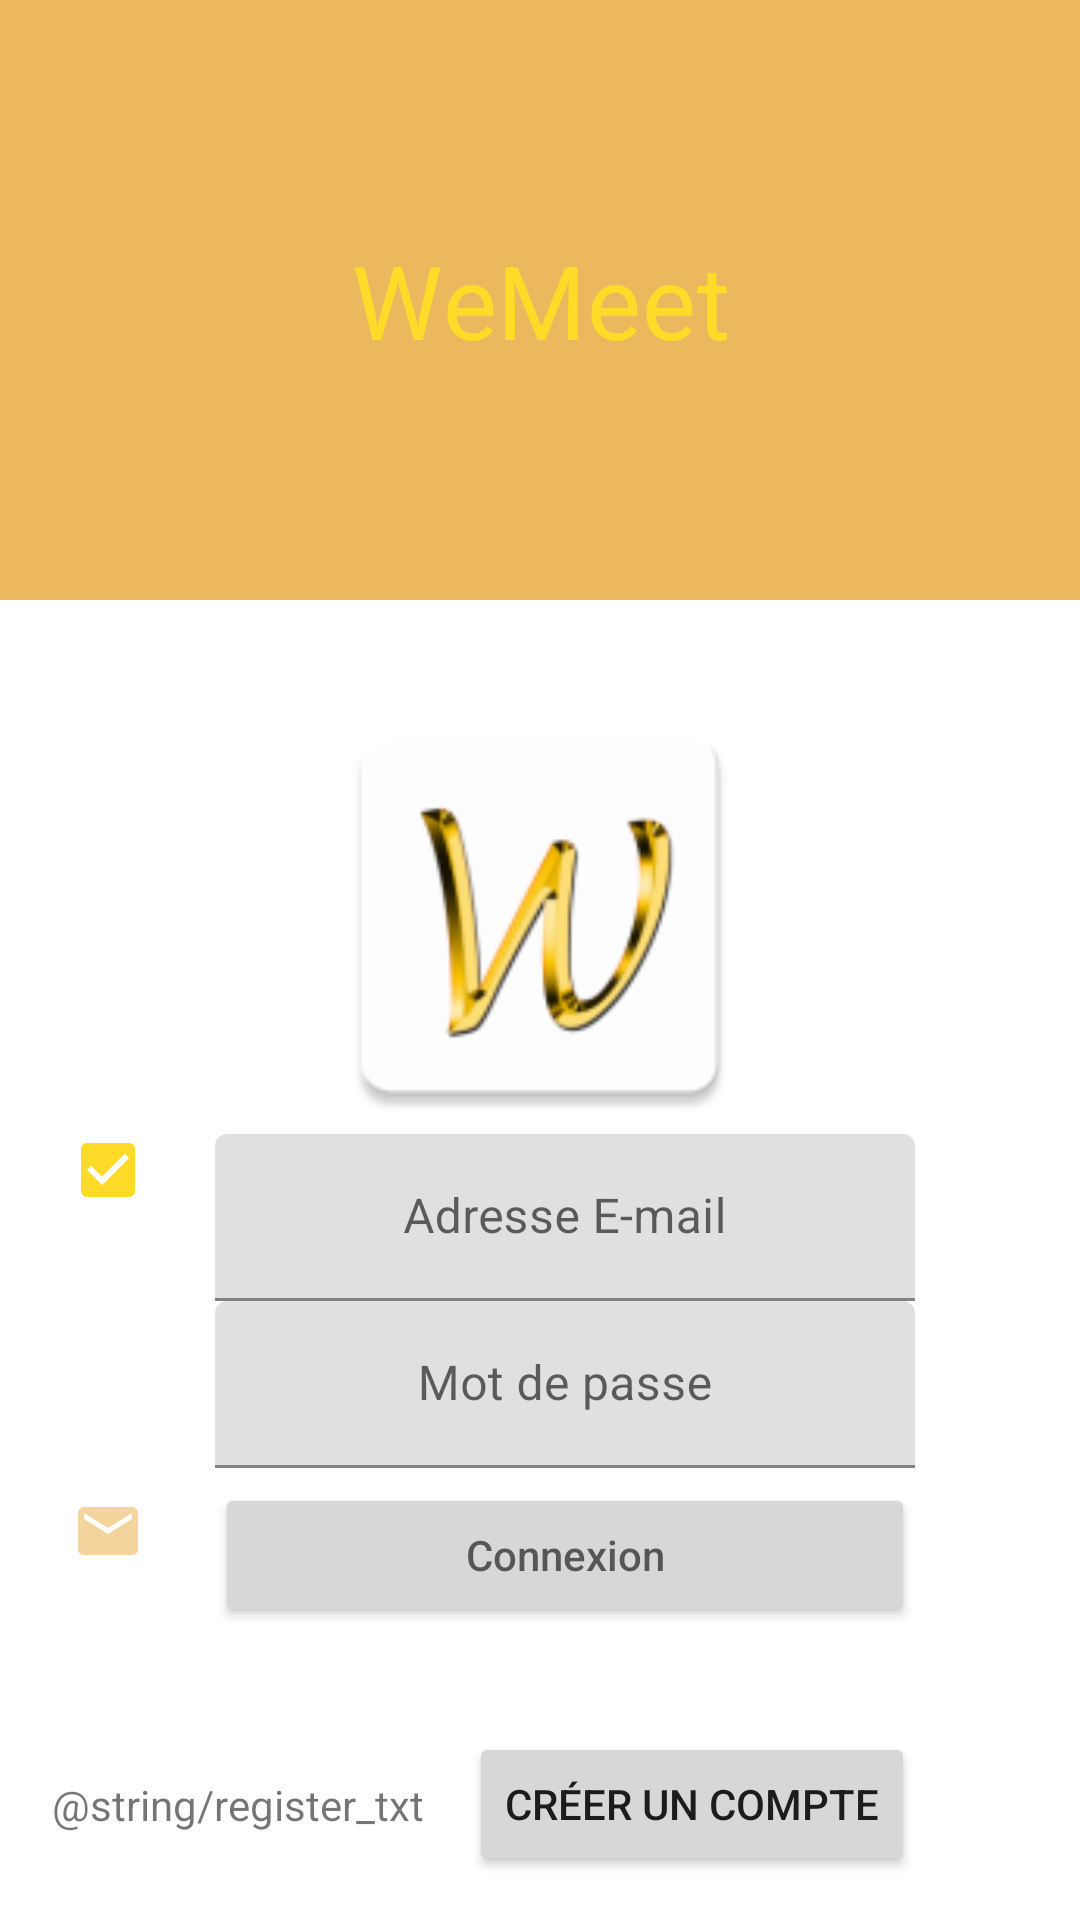

Point at icon controls on the screen. Image size 1080px×1920px, points as point (x, y).
check: point (108, 1170)
mail: point (108, 1531)
